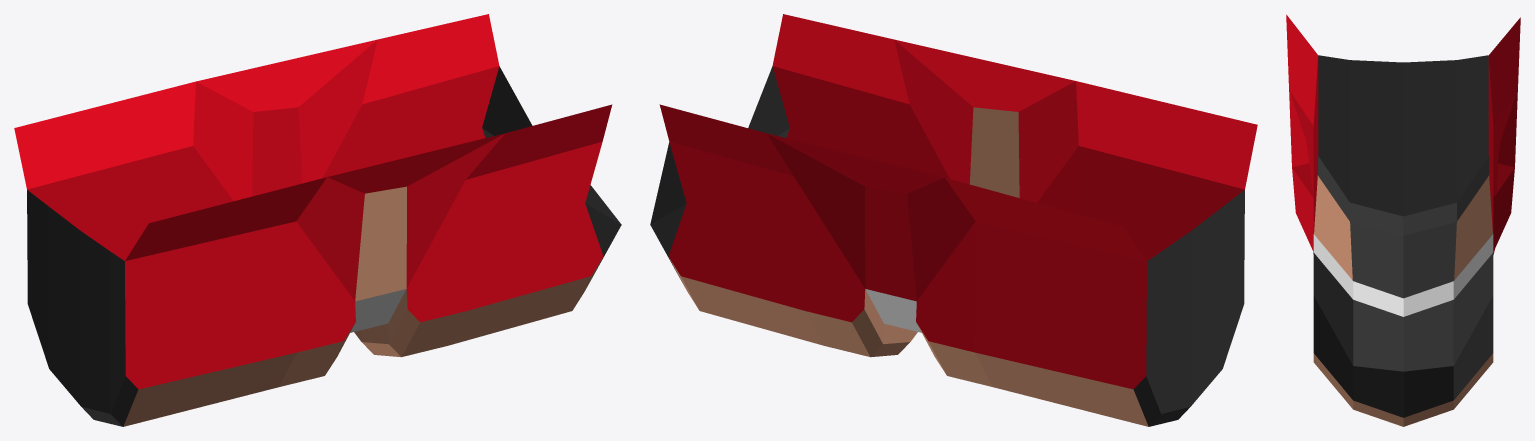
Rendered from CargoUpg.fbx.
3 renders of one model, left to right at view 1: azimuth 30°, elevation 25°; view 2: azimuth 150°, elevation 25°; view 3: azimuth 270°, elevation 25°, orthographic. The views are drawn at different scales.
Visible parts, largest first — view 1: CargoSP; view 2: CargoSP; view 3: CargoSP.
Part boxes in pixels (box(x1,y1,x2,y2)): CargoSP: box(14, 14, 621, 426); CargoSP: box(650, 14, 1257, 426); CargoSP: box(1286, 14, 1520, 426).
Bounding box in the file's own units: 73.83 × 34.48 × 33.21.
